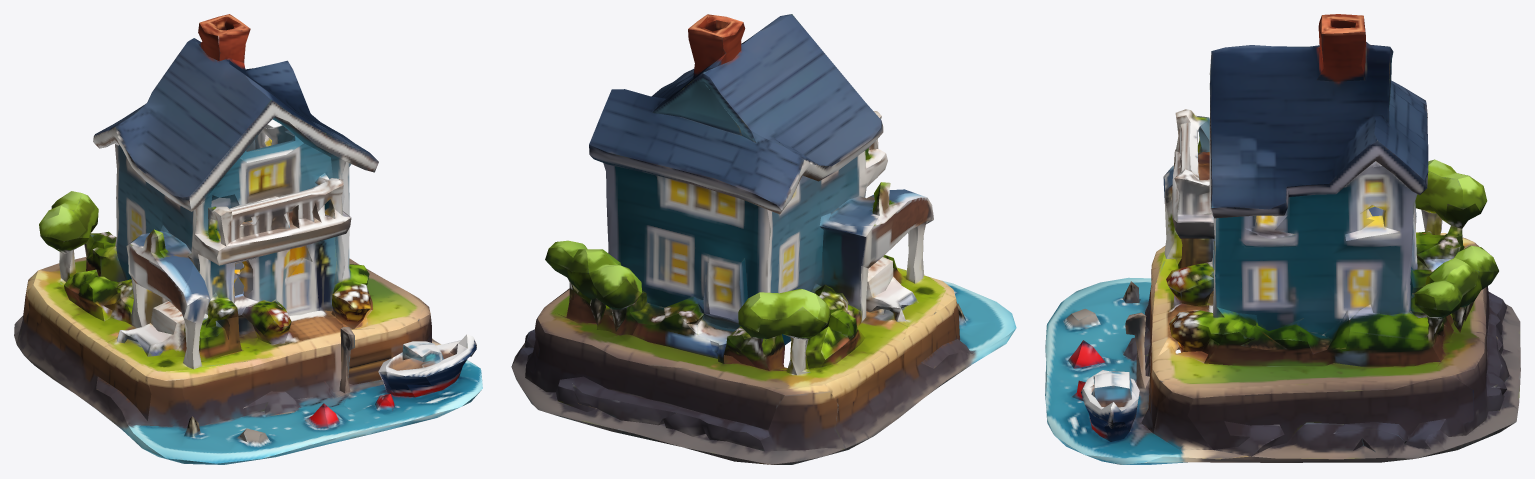
Rendered from house-harbor-house.glb.
3 views of the same model, side by side, from view 1: azimuth 30°, elevation 25°; view 2: azimuth 150°, elevation 25°; view 3: azimuth 270°, elevation 25° (orthographic). The views are drawn at different scales.
Visible parts, largest first — view 1: geometry_0; view 2: geometry_0; view 3: geometry_0.
Boxes of the visible parts, x1,y1,x2,y2 form: geometry_0: (14, 14, 482, 464); geometry_0: (511, 14, 1016, 464); geometry_0: (1045, 14, 1520, 464).
Bounding box in the file's own units: 0.9099 × 0.8311 × 1.
1 material, 1 textured.
